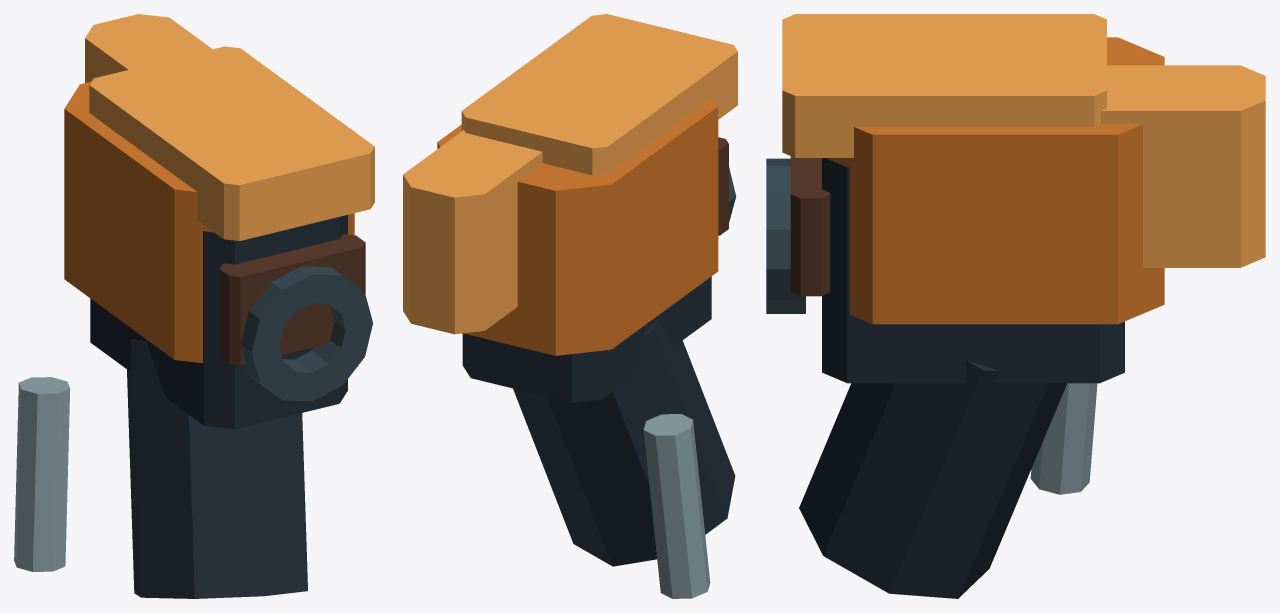
The model's file is enemy_runner_upper_arm_l.obj.
3 renders of one model, left to right at view 1: azimuth 30°, elevation 25°; view 2: azimuth 150°, elevation 25°; view 3: azimuth 270°, elevation 25°, orthographic. The views are drawn at different scales.
Bounding box in the file's own units: 0.4509 × 0.8144 × 0.6925.
